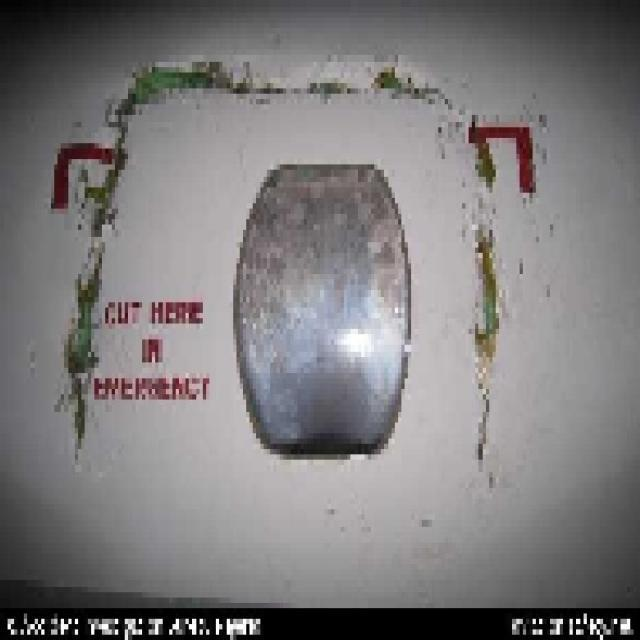crack: (52, 122, 128, 469), (109, 65, 464, 108), (470, 229, 500, 476)
